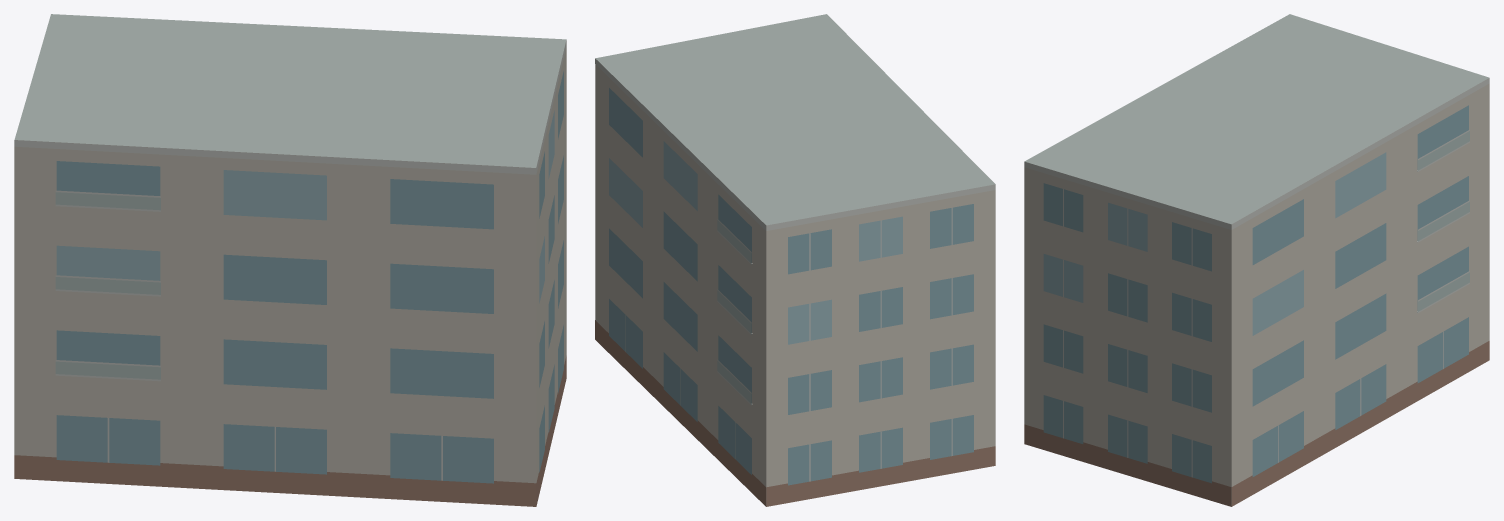
Rendered from survey-upis-32938784.glb.
3 views of the same model, side by side, from view 1: azimuth 30°, elevation 25°; view 2: azimuth 150°, elevation 25°; view 3: azimuth 270°, elevation 25° (orthographic). The views are drawn at different scales.
Parts seen in each view (by area): view 1: survey-upis-32938784.tmp; view 2: survey-upis-32938784.tmp; view 3: survey-upis-32938784.tmp.
Boxes of the visible parts, x1,y1,x2,y2 form: survey-upis-32938784.tmp: (14, 14, 566, 506); survey-upis-32938784.tmp: (595, 14, 995, 506); survey-upis-32938784.tmp: (1024, 14, 1489, 506).
Bounding box in the file's own units: 19.49 × 12.2 × 18.23.
